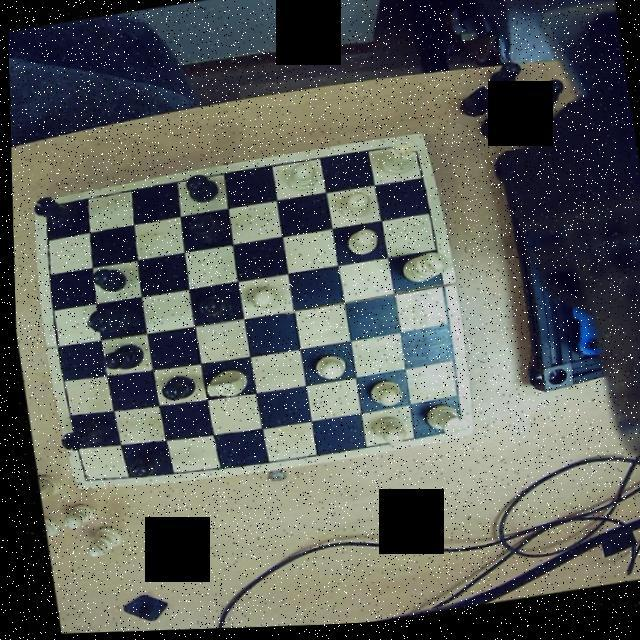chess-table-corners: (438, 418, 466, 442), (398, 140, 424, 164), (30, 198, 60, 218), (66, 466, 90, 488)
